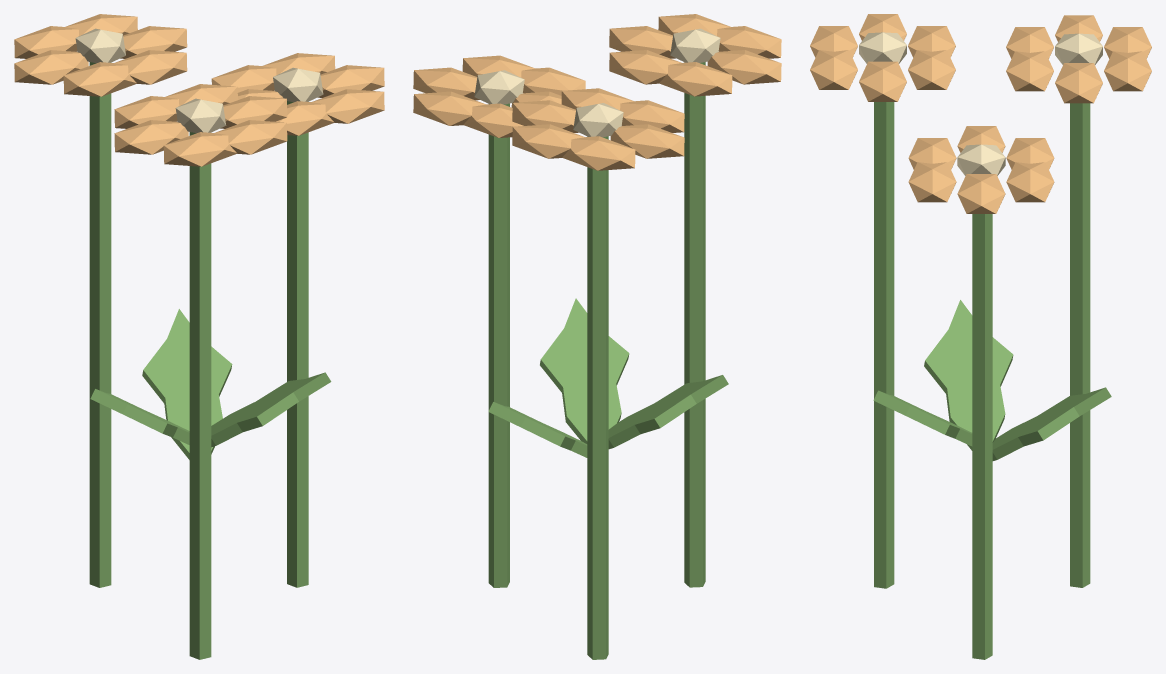
Rendered from sm_env_forest_wildflower.glb.
The picture shows the model from 3 angles, left to right: view 1: azimuth 30°, elevation 25°; view 2: azimuth 150°, elevation 25°; view 3: azimuth 270°, elevation 25°; orthographic projection.
Parts seen in each view (by area): view 1: FlowerStem.002, FlowerStem.001, FlowerStem, FlowerLeaf, FlowerLeaf.002, Petal.016, Petal.010, Petal.009, Petal.015, Petal.005, Petal.017, Petal.011 (+14 smaller); view 2: FlowerStem.001, FlowerStem.002, FlowerStem, FlowerLeaf.002, FlowerLeaf.001, Petal.008, Petal.014, Petal.009, Petal.015, Petal.001, Petal.007, Petal.013 (+14 smaller); view 3: FlowerStem.002, FlowerStem.001, FlowerStem, FlowerLeaf.001, FlowerLeaf, Petal.012, Petal.006, Petal.001, Petal.007, Petal.005, Petal.011, Petal (+15 smaller).
Boxes of the visible parts, x1,y1,x2,y2 form: FlowerStem.002: (189, 132, 211, 659); FlowerStem.001: (89, 62, 111, 587); FlowerStem: (287, 101, 308, 587); FlowerLeaf: (142, 309, 232, 459); FlowerLeaf.002: (211, 372, 331, 447); Petal.016: (163, 132, 236, 166); Petal.010: (63, 62, 136, 96); Petal.009: (14, 50, 88, 84); Petal.015: (114, 120, 188, 154); Petal.005: (311, 89, 384, 123); Petal.017: (214, 120, 287, 154); Petal.011: (114, 50, 187, 84); FlowerStem.001: (587, 136, 608, 659); FlowerStem.002: (684, 62, 705, 587); FlowerStem: (488, 103, 509, 587); FlowerLeaf.002: (540, 298, 629, 443); FlowerLeaf.001: (608, 375, 728, 449); Petal.008: (562, 136, 635, 170); Petal.014: (659, 62, 732, 96); Petal.009: (610, 124, 684, 158); Petal.015: (707, 50, 781, 84); Petal.001: (413, 91, 485, 125); Petal.007: (512, 124, 584, 158); Petal.013: (609, 50, 681, 84); FlowerStem.002: (874, 102, 894, 588); FlowerStem.001: (1070, 103, 1090, 587); FlowerStem: (972, 214, 992, 659); FlowerLeaf.001: (924, 300, 1013, 450); FlowerLeaf: (992, 387, 1111, 460); Petal.012: (859, 61, 906, 101); Petal.006: (1055, 63, 1102, 103); Petal.001: (1006, 162, 1054, 202); Petal.007: (1104, 51, 1151, 91); Petal.005: (908, 162, 956, 202); Petal.011: (1006, 51, 1053, 91); Petal: (957, 174, 1005, 213).
Bounding box in the file's own units: 0.39 × 0.6466 × 0.3631.
